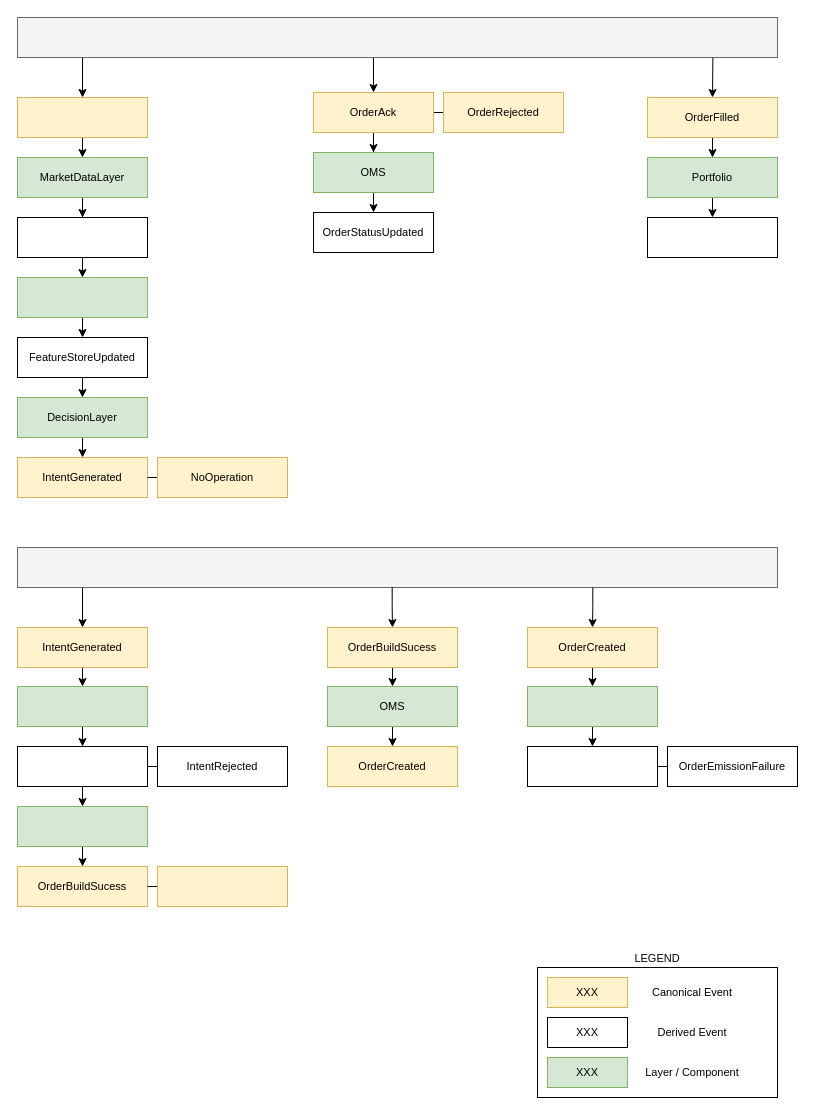
This 815x1115 diagram has some shape labels left out. Each missing label, with the centre of its shape:
"AccountingApplied" goes at (x=712, y=237).
"BarAvailable" goes at (x=82, y=117).
"EMS" goes at (x=592, y=706).
"ENDOGENOUS WORLD (MARKET, FEATURES, PORTFOLIO, ORDER VIEW)" goes at (x=397, y=567).
"EXOGENOUS WORLD (DATA PROVIDER, BROKER)" goes at (x=397, y=37).
"FeatureLayer" goes at (x=82, y=297).
"IntentAccepted" goes at (x=82, y=766).
"MarketStoreUpdated" goes at (x=82, y=237).
"OrderBuildFailure" goes at (x=222, y=886).
"OrderConstructionLayer" goes at (x=82, y=826).
"OrderEmissionSucess" goes at (x=592, y=766).
"RiskLayer" goes at (x=82, y=706).
